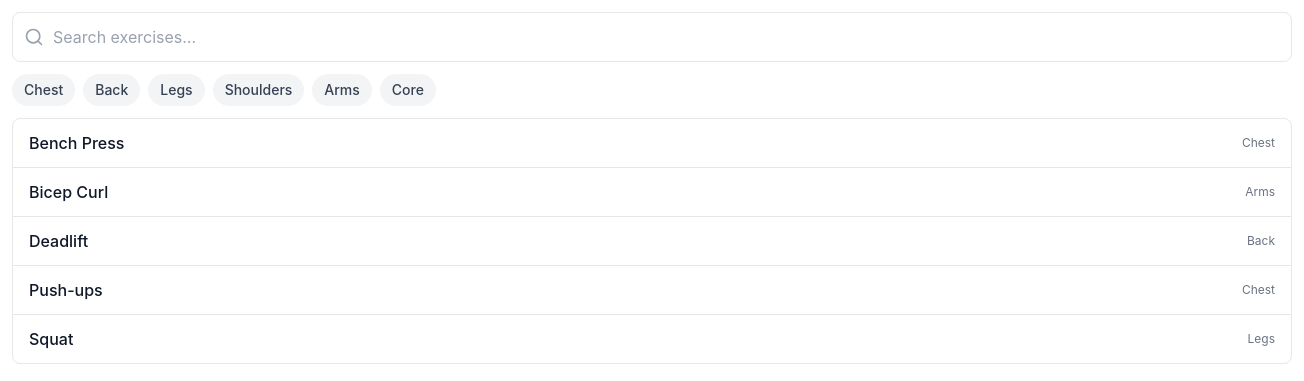
it: ExerciseSelector › should filter exercises by muscle group
This screenshot has width=1304, height=381.
Expected: the text "Bench Press" is shown, [29,131,124,155]
Step 1. Click the button "chest" → [44, 90], box [12,74,75,106]
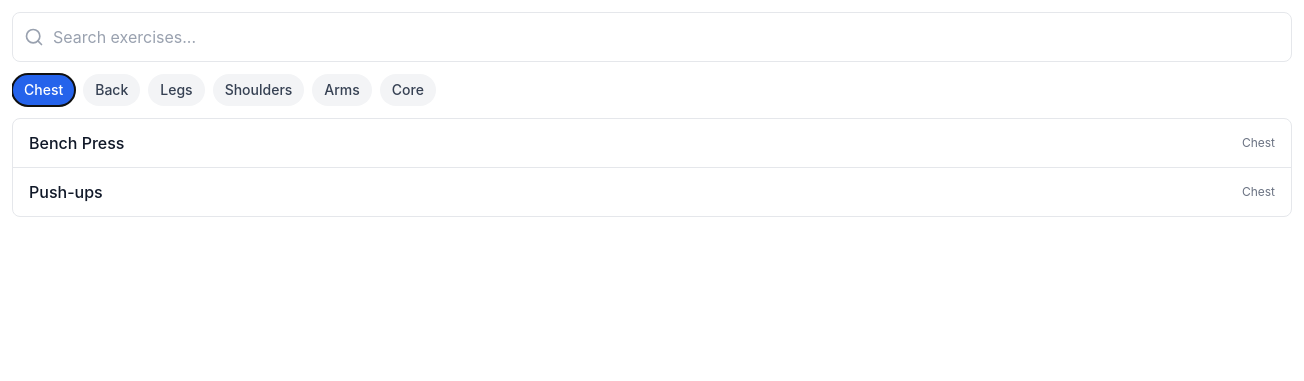
Expected: the text "Bench Press" is shown, [29,131,124,155]
Expected: the button "Squat" is gone
Expected: the button "Deadlift" is gone
